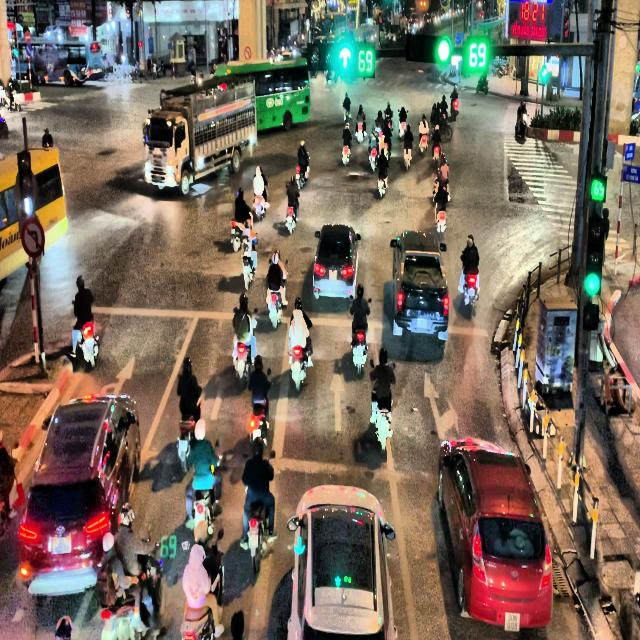lisence_plate: (49, 534, 72, 556), (503, 610, 521, 633), (415, 318, 428, 331), (328, 270, 338, 282)
